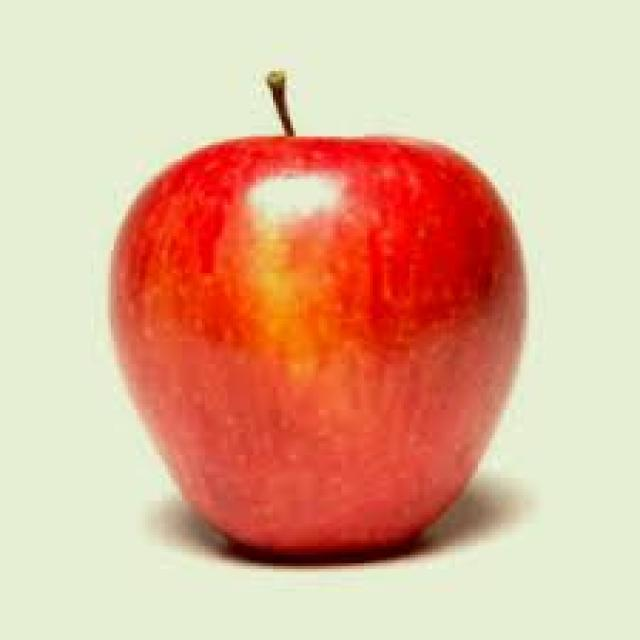apple: (92, 118, 535, 580)
